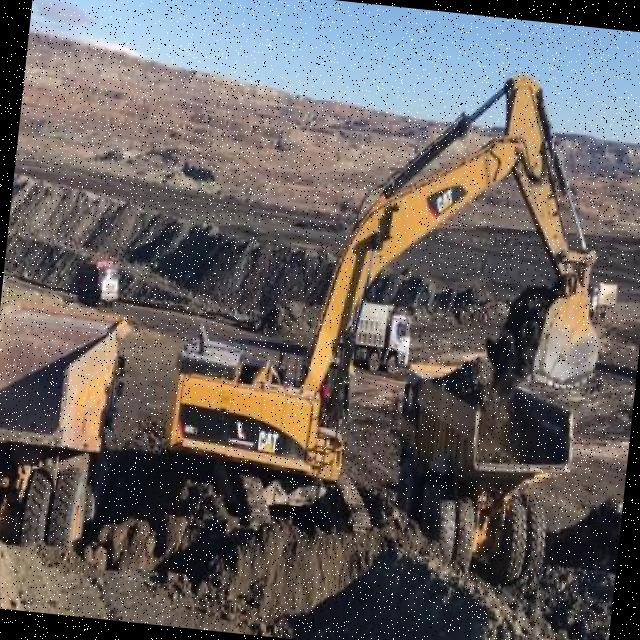Dump Truck: (380, 348, 584, 586), (0, 294, 133, 576), (342, 300, 413, 376), (78, 257, 122, 310), (584, 280, 618, 317)
Excavator: (153, 40, 638, 603)
